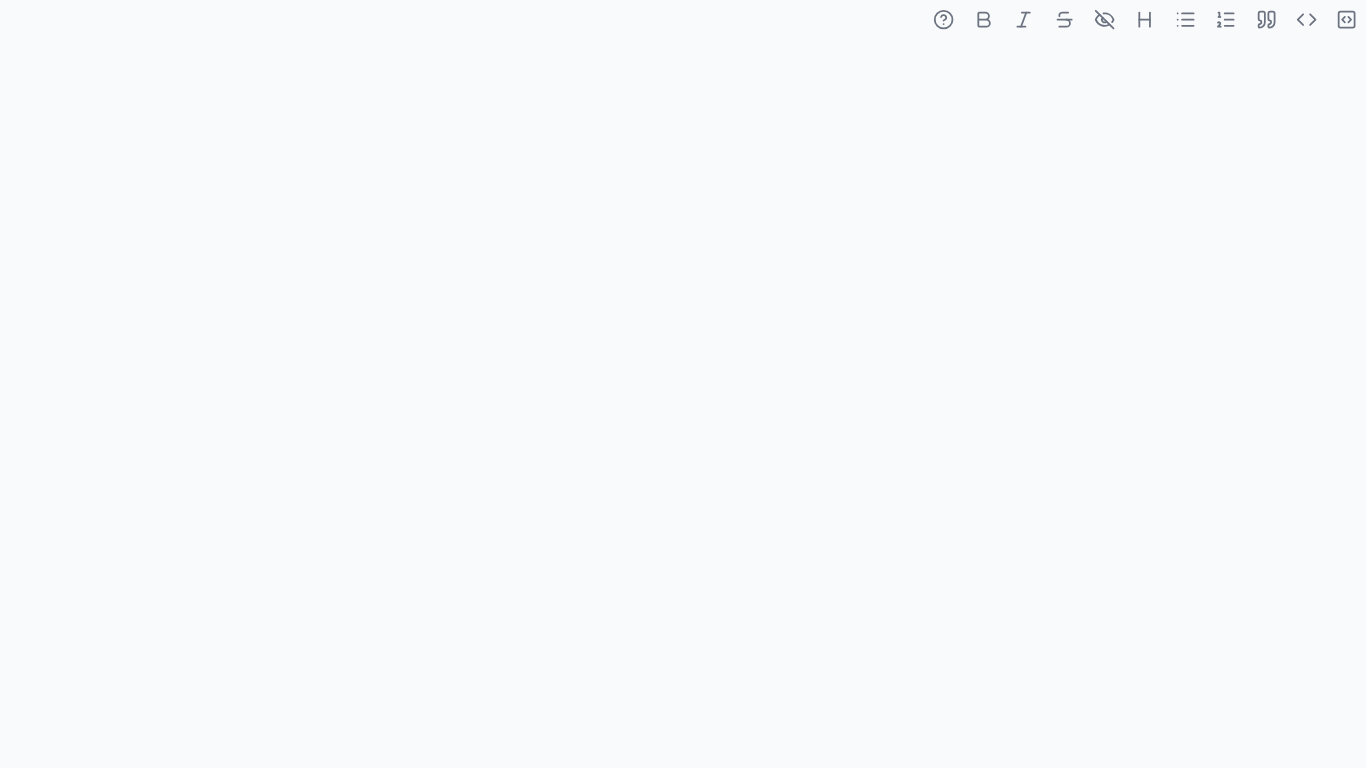
MarkdownToolbar › opens the cheat sheet and closes it
Click the button named "Markdown cheat sheet". click: (943, 19)
box: [924,0,962,38]
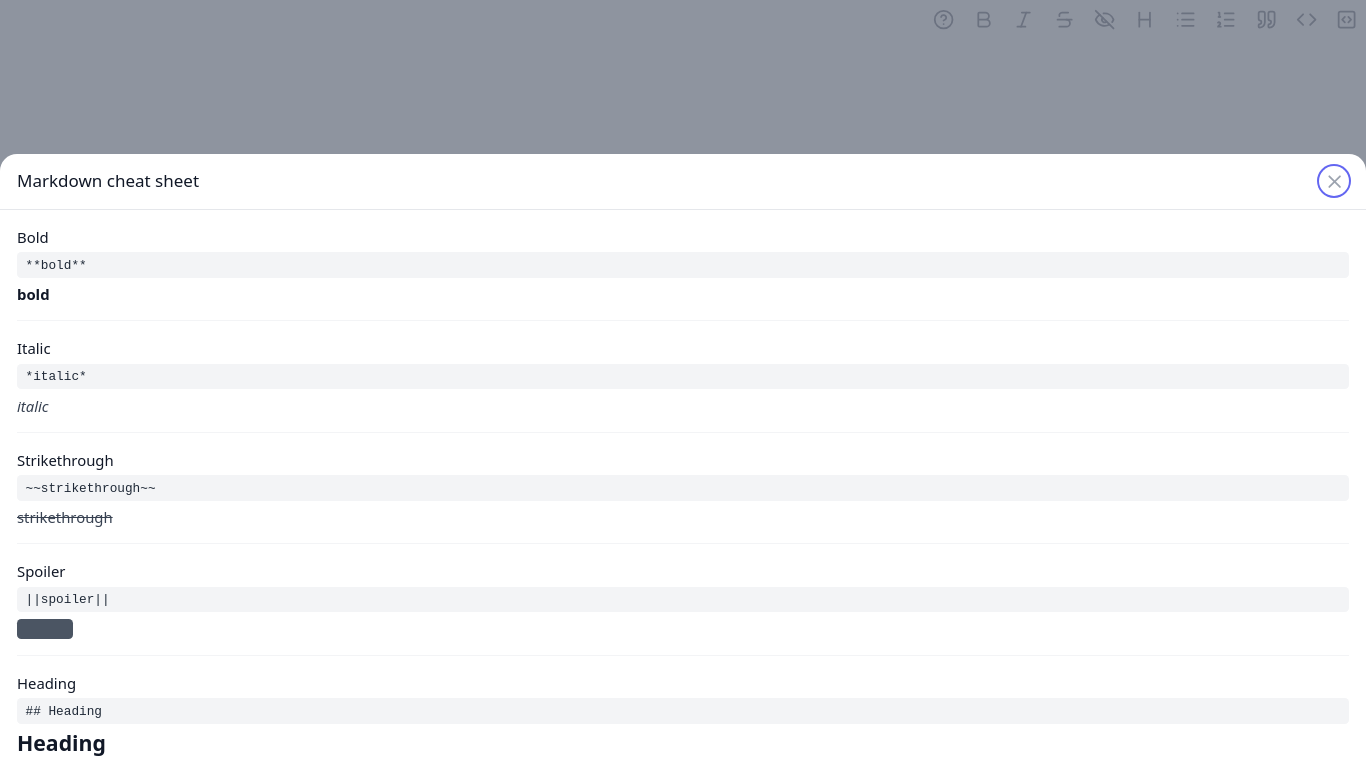
Expected: the dialog "Markdown cheat sheet" is shown
